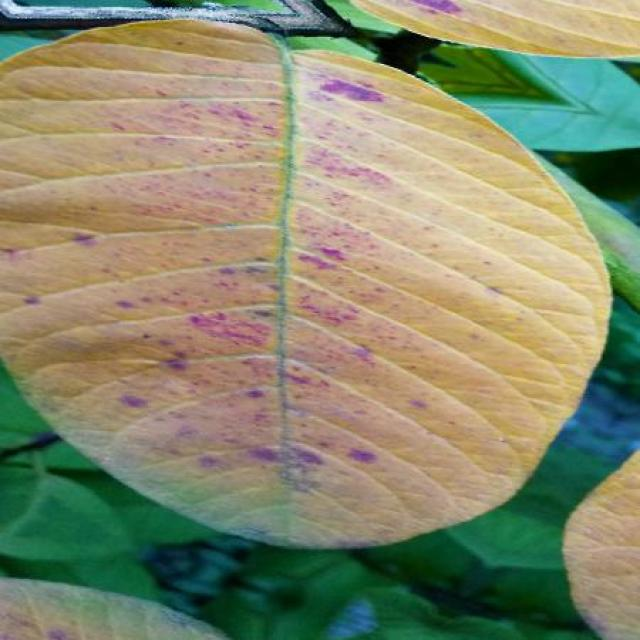Red Rust: (0, 21, 611, 547)
